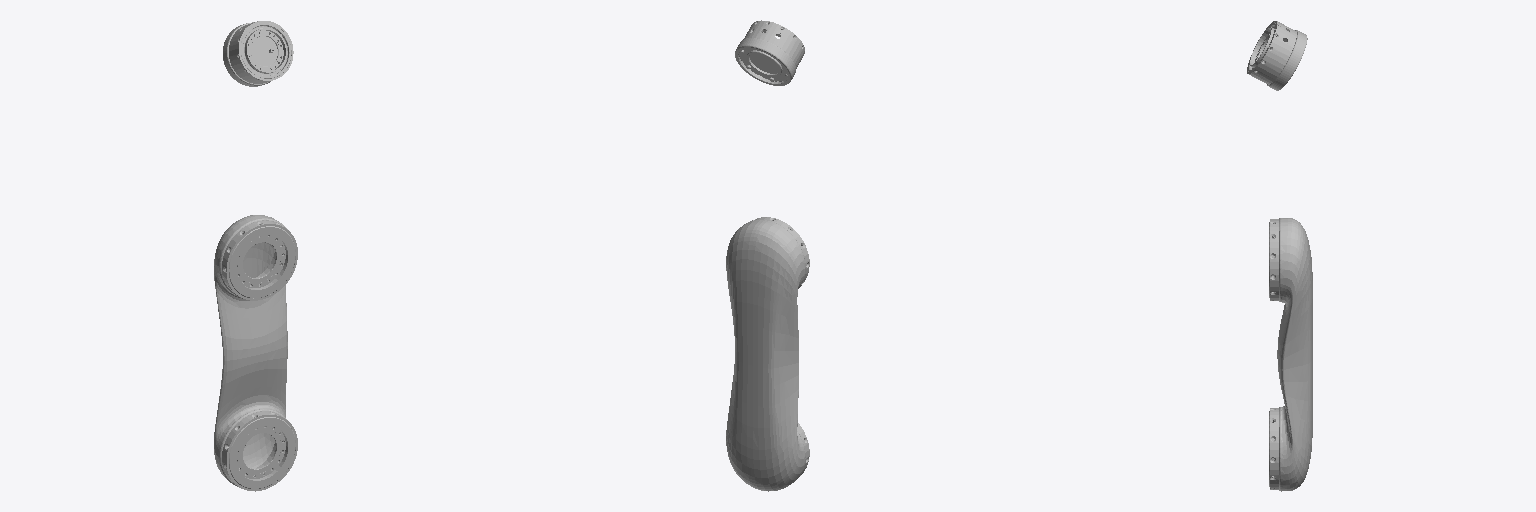
URDF robot description (heal2):
<?xml version="1.0" encoding="utf-8"?>
<!-- This URDF was automatically created by SolidWorks to URDF Exporter! Originally created by [author] ([email redacted]) 
     Commit Version: 1.6.0-4-g7f85cfe  Build Version: 1.6.7995.38578
     For more information, please see http://wiki.ros.org/sw_urdf_exporter -->
<robot
  name="heal2">

<link
    name="world" />
  <joint name="world_joint" type="fixed">
    <parent link="world" />
    <child link="base_link" />
    <origin
      xyz="0 0 0"
      rpy="0 0 0" />
  </joint>


  <link
    name="base_link">
    <inertial>
      <origin
        xyz="6.1138E-05 1.7555E-05 0.097325"
        rpy="0 0 0" />
      <mass
        value="3.6282" />
      <inertia
        ixx="0.0073478"
        ixy="4.0081E-07"
        ixz="4.4767E-06"
        iyy="0.0073429"
        iyz="1.1049E-06"
        izz="0.011821" />
    </inertial>
    <visual>
      <origin
        xyz="0 0 0"
        rpy="0 0 0" />
      <geometry>
        <mesh
          filename="package://heal_right/meshes/robot_meshes/base_link.STL" />
      </geometry>
      <material
        name="">
        <color
          rgba="0.75294 0.75294 0.75294 1" />
      </material>
    </visual>
    <collision>
      <origin
        xyz="0 0 0"
        rpy="0 0 0" />
      <geometry>
        <mesh
          filename="package://heal_right/meshes/robot_meshes/base_link.STL" />
      </geometry>
    </collision>
  </link>
  <link
    name="link_1">
    <inertial>
      <origin
        xyz="-8.8386E-05 0.022834 0.13346"
        rpy="0 0 0" />
      <mass
        value="2.5503" />
      <inertia
        ixx="0.0042601"
        ixy="-3.1693E-06"
        ixz="7.5868E-06"
        iyy="0.0049054"
        iyz="-6.6829E-05"
        izz="0.0038997" />
    </inertial>
    <visual>
      <origin
        xyz="0 0 0"
        rpy="0 0 0" />
      <geometry>
        <mesh
          filename="package://heal_right/meshes/robot_meshes/link 1.STL" />
      </geometry>
      <material
        name="">
        <color
          rgba="0.75294 0.75294 0.75294 1" />
      </material>
    </visual>
    <collision>
      <origin
        xyz="0 0 0"
        rpy="0 0 0" />
      <geometry>
        <mesh
          filename="package://heal_right/meshes/robot_meshes/link 1.STL" />
      </geometry>
    </collision>
  </link>
  <joint
    name="joint_1_heal2"
    type="revolute">
    <origin
      xyz="0 0 0.205"
      rpy="0 0 0" />
    <parent
      link="base_link" />
    <child
      link="link_1" />
    <axis
      xyz="0 0 -1" />
      <limit
      lower="-3.14159"
      upper="3.14159"
      effort="10000"
      velocity="10" />
  </joint>
  <link
    name="link_2">
    <inertial>
      <origin
        xyz="-0.00017021 0.15061 -0.016973"
        rpy="0 0 0" />
      <mass
        value="1.0366" />
      <inertia
        ixx="0.0086581"
        ixy="4.2443E-06"
        ixz="3.3833E-07"
        iyy="0.0014536"
        iyz="-1.2083E-06"
        izz="0.0097684" />
    </inertial>
    <visual>
      <origin
        xyz="0 0 0"
        rpy="0 0 0" />
      <geometry>
        <mesh
          filename="package://heal_right/meshes/robot_meshes/link 2.STL" />
      </geometry>
      <material
        name="">
        <color
          rgba="0.75294 0.75294 0.75294 1" />
      </material>
    </visual>
    <collision>
      <origin
        xyz="0 0 0"
        rpy="0 0 0" />
      <geometry>
        <mesh
          filename="package://heal_right/meshes/robot_meshes/link 2.STL" />
      </geometry>
    </collision>
  </link>
  <joint
    name="joint_2_heal2"
    type="revolute">
    <origin
      xyz="0 0.0875 0.1498"
      rpy="1.5708 0 0" />
    <parent
      link="link_1" />
    <child
      link="link_2" />
    <axis
      xyz="0 0 -1" />
      <limit
      lower="-3.14159"
      upper="3.14159"
      effort="10000"
      velocity="10" />
  </joint>
  <link
    name="link_3">
    <inertial>
      <origin
        xyz="-7.5516E-07 0.034461 0.069151"
        rpy="0 0 0" />
      <mass
        value="3.1645" />
      <inertia
        ixx="0.0042531"
        ixy="-2.4663E-06"
        ixz="6.513E-06"
        iyy="0.0036993"
        iyz="-3.96E-05"
        izz="0.0048772" />
    </inertial>
    <visual>
      <origin
        xyz="0 0 0"
        rpy="0 0 0" />
      <geometry>
        <mesh
          filename="package://heal_right/meshes/robot_meshes/link 3.STL" />
      </geometry>
      <material
        name="">
        <color
          rgba="0.75294 0.75294 0.75294 1" />
      </material>
    </visual>
    <collision>
      <origin
        xyz="0 0 0"
        rpy="0 0 0" />
      <geometry>
        <mesh
          filename="package://heal_right/meshes/robot_meshes/link 3.STL" />
      </geometry>
    </collision>
  </link>
  <joint
    name="joint_3_heal2"
    type="revolute">
    <origin
      xyz="0 0.3 0"
      rpy="0 0 0" />
    <parent
      link="link_2" />
    <child
      link="link_3" />
    <axis
      xyz="0 0 -1" />
      <limit
      lower="-3.14159"
      upper="3.14159"
      effort="10000"
      velocity="10" />
  </joint>
  <link
    name="link_4">
    <inertial>
      <origin
        xyz="1.3303E-05 0.047648 0.10412"
        rpy="0 0 0" />
      <mass
        value="1.1746" />
      <inertia
        ixx="0.0014257"
        ixy="-2.9805E-07"
        ixz="-3.8E-07"
        iyy="0.001257"
        iyz="-0.00028157"
        izz="0.0014103" />
    </inertial>
    <visual>
      <origin
        xyz="0 0 0"
        rpy="0 0 0" />
      <geometry>
        <mesh
          filename="package://heal_right/meshes/robot_meshes/link 4.STL" />
      </geometry>
      <material
        name="">
        <color
          rgba="0.75294 0.75294 0.75294 1" />
      </material>
    </visual>
    <collision>
      <origin
        xyz="0 0 0"
        rpy="0 0 0" />
      <geometry>
        <mesh
          filename="package://heal_right/meshes/robot_meshes/link 4.STL" />
      </geometry>
    </collision>
  </link>
  <joint
    name="joint_4_heal2"
    type="revolute">
    <origin
      xyz="0 0.1593 0.0875"
      rpy="1.5708 0 3.1416" />
    <parent
      link="link_3" />
    <child
      link="link_4" />
    <axis
      xyz="0 0 1" />
      <limit
      lower="-3.14159"
      upper="3.14159"
      effort="10000"
      velocity="10" />
  </joint>
  <link
    name="link_5">
    <inertial>
      <origin
        xyz="-5.6194E-05 -0.033236 0.059696"
        rpy="0 0 0" />
      <mass
        value="1.0276" />
      <inertia
        ixx="0.00077425"
        ixy="-3.0073E-07"
        ixz="-2.1371E-06"
        iyy="0.00091013"
        iyz="1.6623E-05"
        izz="0.00083086" />
    </inertial>
    <visual>
      <origin
        xyz="0 0 0"
        rpy="0 0 0" />
      <geometry>
        <mesh
          filename="package://heal_right/meshes/robot_meshes/link 5.STL" />
      </geometry>
      <material
        name="">
        <color
          rgba="0.75294 0.75294 0.75294 1" />
      </material>
    </visual>
    <collision>
      <origin
        xyz="0 0 0"
        rpy="0 0 0" />
      <geometry>
        <mesh
          filename="package://heal_right/meshes/robot_meshes/link 5.STL" />
      </geometry>
    </collision>
  </link>
  <joint
    name="joint_5_heal2"
    type="revolute">
    <origin
      xyz="0 0.03185 0.16105"
      rpy="0.5236 0 0" />
    <parent
      link="link_4" />
    <child
      link="link_5" />
    <axis
      xyz="0 0 -1" />
      <limit
      lower="-3.14159"
      upper="3.14159"
      effort="10000"
      velocity="10" />
  </joint>
  <link
    name="end_effector">
    <inertial>
      <origin
        xyz="7.0245E-06 -0.00022138 -0.016847"
        rpy="0 0 0" />
      <mass
        value="0.22456" />
      <inertia
        ixx="0.00018968"
        ixy="-5.0761E-08"
        ixz="1.4887E-08"
        iyy="0.00019125"
        iyz="-5.5675E-07"
        izz="0.00032612" />
    </inertial>
    <visual>
      <origin
        xyz="0 0 0"
        rpy="0 0 0" />
      <geometry>
        <mesh
          filename="package://heal_right/meshes/robot_meshes/end effector.STL" />
      </geometry>
      <material
        name="">
        <color
          rgba="0.75294 0.75294 0.75294 1" />
      </material>
    </visual>
    <collision>
      <origin
        xyz="0 0 0"
        rpy="0 0 0" />
      <geometry>
        <mesh
          filename="package://heal_right/meshes/robot_meshes/end effector.STL" />
      </geometry>
      <gazebo>
        <material>Gazebo/Grey</material>
        <surface>
          <friction>
            <ode>
              <mu>10.0</mu>  <!-- Coefficient of friction -->
              <mu2>10.0</mu2>
            </ode>
          </friction>
        </surface>
      </gazebo>
    </collision>
  </link>
  <joint
    name="joint_6_heal2"
    type="revolute">
    <origin
      xyz="0 -0.1227 0.0654"
      rpy="1.5708 0 0" />
    <parent
      link="link_5" />
    <child
      link="end_effector" />
    <axis
      xyz="0 0 -1" />
      <limit
      lower="-3.14159"
      upper="3.14159"
      effort="10000"
      velocity="10" />
  </joint>
<transmission name="joint1_transmission_heal2">
    <type>transmission_interface/SimpleTransmission</type>
    <joint name="joint_1_heal2">
      <hardwareInterface>hardware_interface/EffortJointInterface</hardwareInterface>
      <hardwareInterface>hardware_interface/PositionJointInterface</hardwareInterface>
      <hardwareInterface>hardware_interface/VelocityJointInterface</hardwareInterface>
    </joint>
    <actuator name="joint1_motor_heal2">
      <mechanicalReduction>1</mechanicalReduction>
    </actuator>
  </transmission>
  <transmission name="joint2_transmission_heal2">
    <type>transmission_interface/SimpleTransmission</type>
    <joint name="joint_2_heal2">
      <hardwareInterface>hardware_interface/EffortJointInterface</hardwareInterface>
      <hardwareInterface>hardware_interface/PositionJointInterface</hardwareInterface>
      <hardwareInterface>hardware_interface/VelocityJointInterface</hardwareInterface>
    </joint>
    <actuator name="joint2_motor_heal2">
      <mechanicalReduction>1</mechanicalReduction>
    </actuator>
  </transmission>
  <transmission name="joint3_transmission_heal2">
    <type>transmission_interface/SimpleTransmission</type>
    <joint name="joint_3_heal2">
      <hardwareInterface>hardware_interface/EffortJointInterface</hardwareInterface>
      <hardwareInterface>hardware_interface/PositionJointInterface</hardwareInterface>
      <hardwareInterface>hardware_interface/VelocityJointInterface</hardwareInterface>
    </joint>
    <actuator name="joint3_motor_heal2">
      <mechanicalReduction>1</mechanicalReduction>
    </actuator>
  </transmission>
  <transmission name="joint4_transmission_heal2">
    <type>transmission_interface/SimpleTransmission</type>
    <joint name="joint_4_heal2">
      <hardwareInterface>hardware_interface/EffortJointInterface</hardwareInterface>
      <hardwareInterface>hardware_interface/PositionJointInterface</hardwareInterface>
      <hardwareInterface>hardware_interface/VelocityJointInterface</hardwareInterface>
    </joint>
    <actuator name="joint4_motor_heal2">
      <mechanicalReduction>1</mechanicalReduction>
    </actuator>
  </transmission>
  <transmission name="joint5_transmission_heal2">
    <type>transmission_interface/SimpleTransmission</type>
    <joint name="joint_5_heal2">
      <hardwareInterface>hardware_interface/EffortJointInterface</hardwareInterface>
      <hardwareInterface>hardware_interface/PositionJointInterface</hardwareInterface>
      <hardwareInterface>hardware_interface/VelocityJointInterface</hardwareInterface>
    </joint>
    <actuator name="joint5_motor_heal2">
      <mechanicalReduction>1</mechanicalReduction>
    </actuator>
  </transmission>
  <transmission name="joint6_transmission_heal2">
    <type>transmission_interface/SimpleTransmission</type>
    <joint name="joint_6_heal2">
      <hardwareInterface>hardware_interface/EffortJointInterface</hardwareInterface>
      <hardwareInterface>hardware_interface/PositionJointInterface</hardwareInterface>
      <hardwareInterface>hardware_interface/VelocityJointInterface</hardwareInterface>
    </joint>
    <actuator name="joint6_motor_heal2">
      <mechanicalReduction>1</mechanicalReduction>
    </actuator>
  </transmission>

  <gazebo>
    <plugin name="gazebo_ros_control" filename="libgazebo_ros_control.so">
    </plugin>
  </gazebo>

</robot>

--- What the picture shows (computed from the rendered views, not written in the file) ---
3 views of the same robot in one strip: view 1: azimuth 30°, elevation 25°; view 2: azimuth 150°, elevation 25°; view 3: azimuth 270°, elevation 25° (orthographic).
Robot: heal2 — 8 links, 7 joints (6 revolute, 1 fixed); root link world; default pose: all joints at 0.
Visible links, largest first — view 1: link_2, end_effector; view 2: link_2, end_effector; view 3: link_2, end_effector.
Link boxes in pixels (x1=…): link_2: x1=214, y1=215, x2=297, y2=491; end_effector: x1=223, y1=21, x2=293, y2=86; link_2: x1=726, y1=217, x2=809, y2=491; end_effector: x1=735, y1=20, x2=804, y2=85; link_2: x1=1269, y1=218, x2=1312, y2=491; end_effector: x1=1247, y1=21, x2=1307, y2=90.
Size in the robot's own frame: 0.1219 by 0.0949 by 0.7358 metres.
Meshes: 7 distinct files referenced, 2 mesh visuals loaded (2 binary STL); not drawn: 5 (reference not matched to a file when rendering).